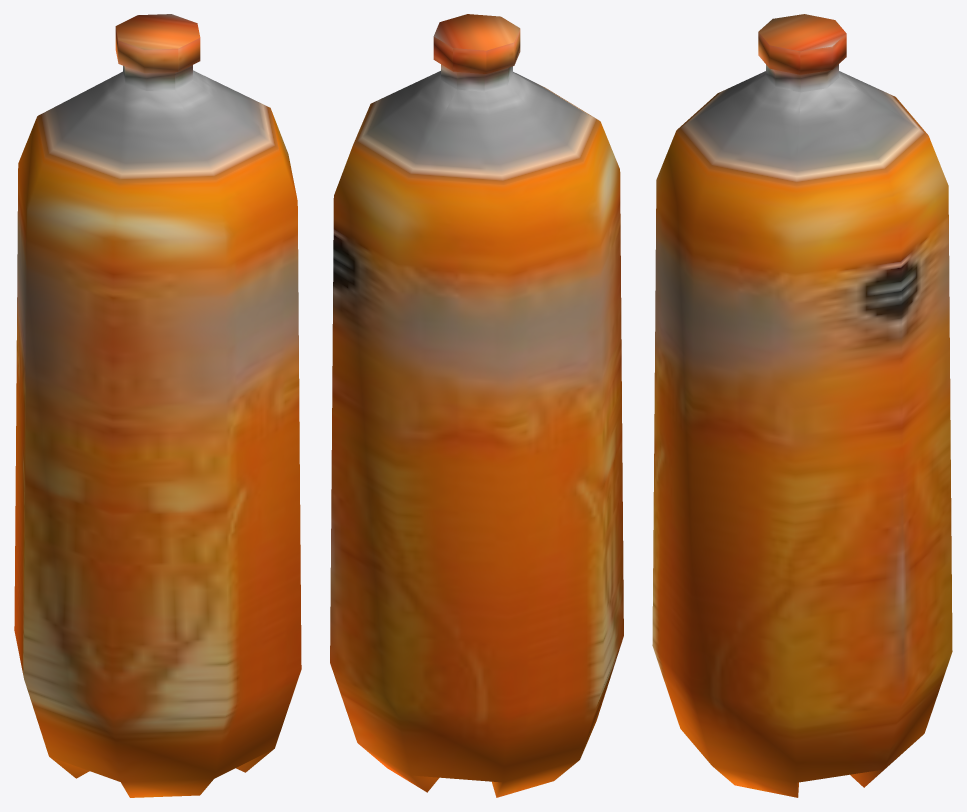
The picture shows the model from 3 angles, left to right: view 1: azimuth 30°, elevation 25°; view 2: azimuth 150°, elevation 25°; view 3: azimuth 270°, elevation 25°; orthographic projection.
Parts seen in each view (by area): view 1: Soda_07012_Foods_01_0; view 2: Soda_07012_Foods_01_0; view 3: Soda_07012_Foods_01_0.
Part boxes in pixels (x1,y1,x2,y2): Soda_07012_Foods_01_0: (14, 14, 301, 797); Soda_07012_Foods_01_0: (330, 14, 623, 797); Soda_07012_Foods_01_0: (652, 14, 952, 797).
Size of the model in its own units: 0.2321 by 0.6202 by 0.2321.
Materials: 1 (1 with a texture image).
